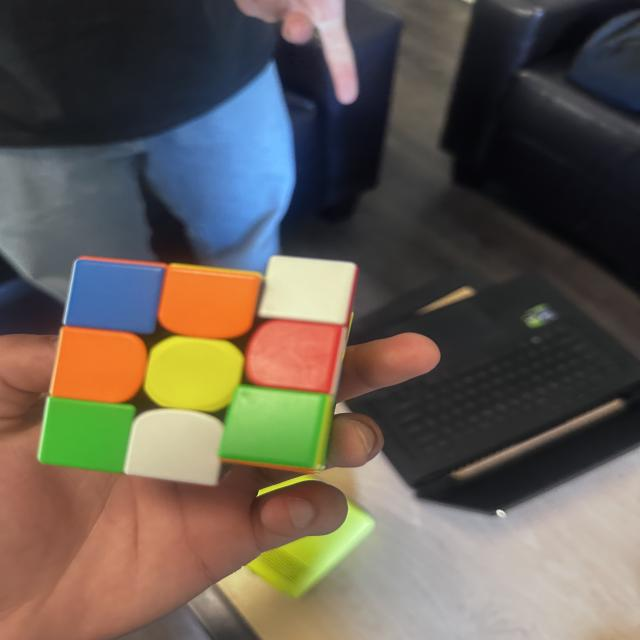sticker: (217, 385, 334, 474), (157, 262, 265, 341), (122, 407, 227, 487), (62, 257, 165, 338), (142, 336, 247, 413), (48, 326, 149, 406), (36, 396, 137, 476), (242, 320, 346, 396), (257, 255, 359, 329)
